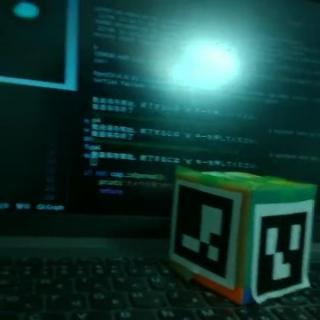armor: (171, 179, 240, 290), (254, 200, 312, 301)
robot: (164, 169, 317, 307)
